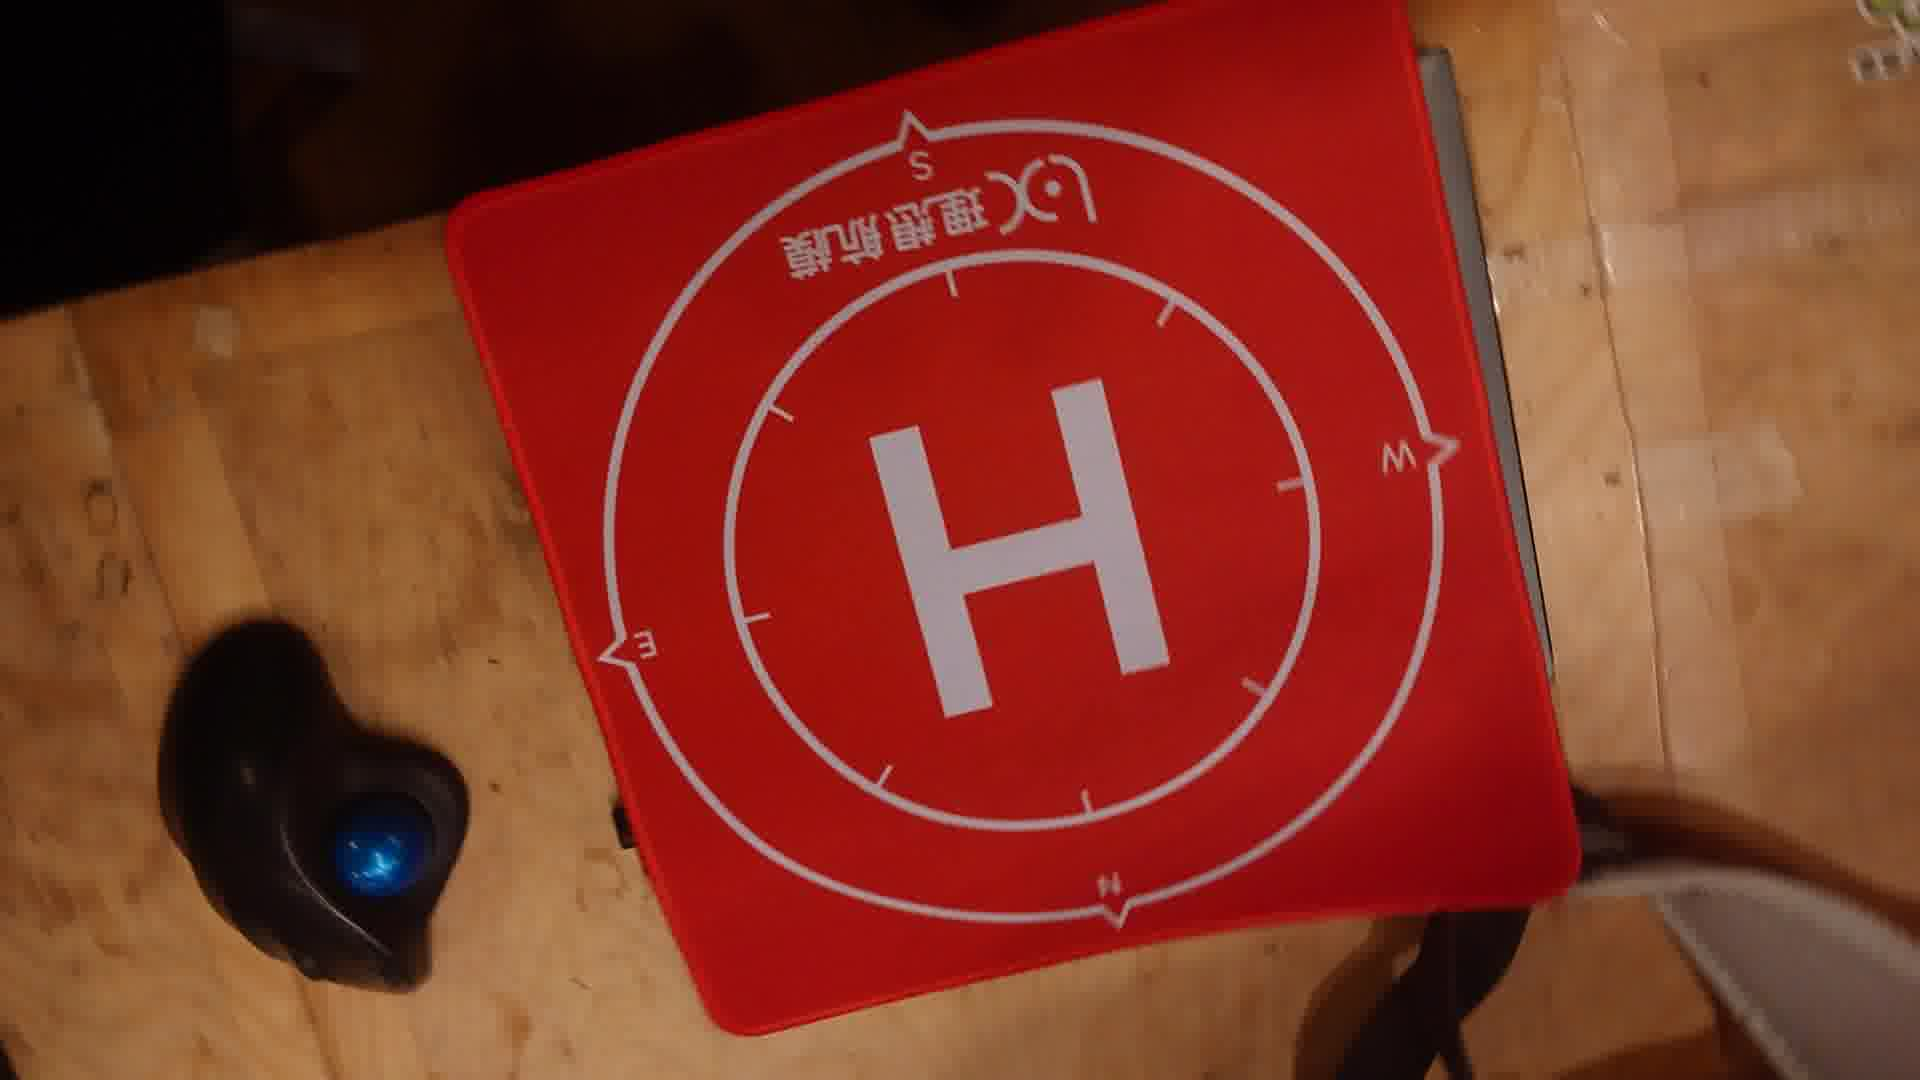H: (869, 376, 1178, 721)
